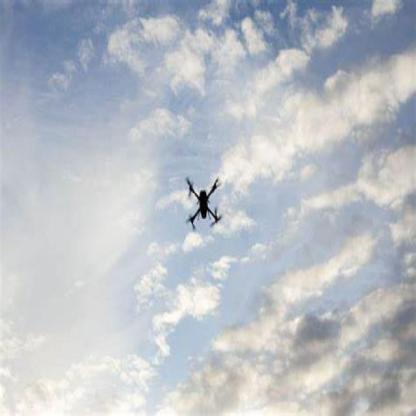drone: (185, 173, 225, 236)
